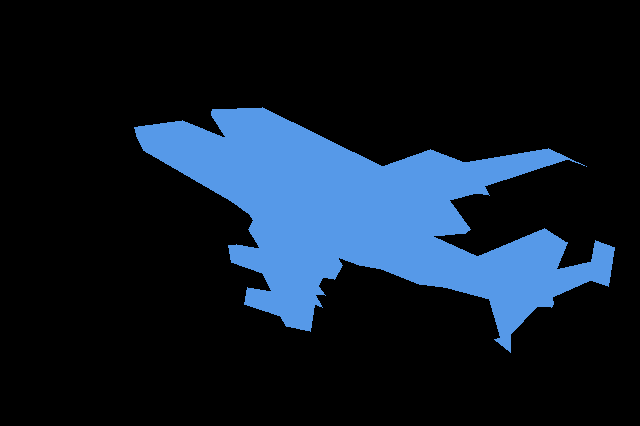Airplane: (134, 107, 615, 353)
